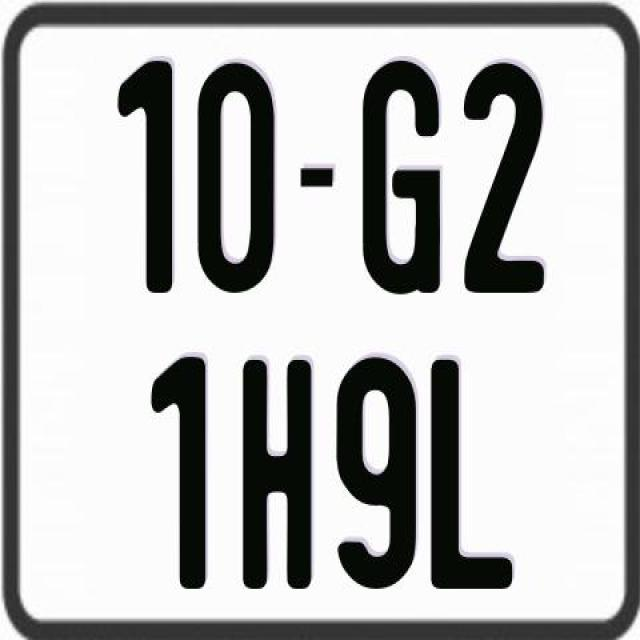0: (194, 60, 274, 298)
1: (150, 357, 210, 596), (118, 59, 174, 293)
2: (461, 62, 543, 302)
9: (332, 355, 419, 587)
G: (362, 59, 447, 296)
H: (238, 356, 312, 594)
L: (431, 358, 516, 589)
